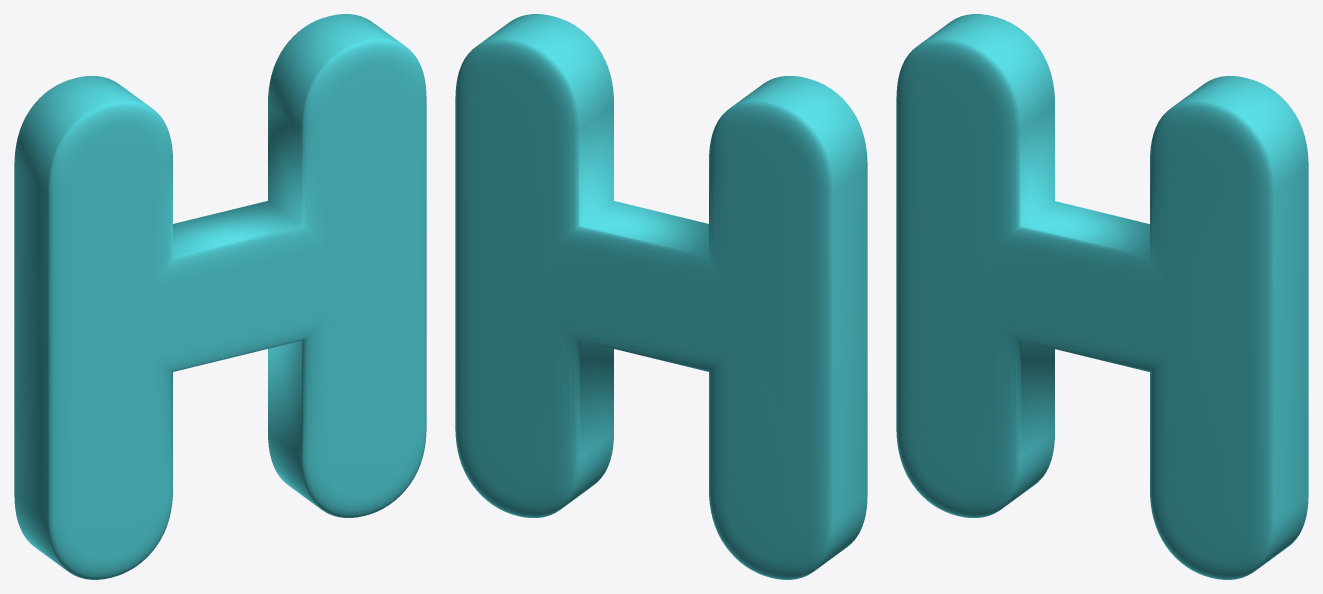
Rendered from RA_Letter_H.fbx.
3 views of the same model, side by side, from view 1: azimuth 30°, elevation 25°; view 2: azimuth 150°, elevation 25°; view 3: azimuth 330°, elevation 25° (orthographic).
Visible parts, largest first — view 1: RA_Letter_H; view 2: RA_Letter_H; view 3: RA_Letter_H.
Part boxes in pixels (left/top/right/bottom): RA_Letter_H: left=14, top=14, right=426, bottom=579; RA_Letter_H: left=455, top=14, right=867, bottom=579; RA_Letter_H: left=896, top=14, right=1308, bottom=579.
Size of the model in its own units: 150 by 180 by 28.
